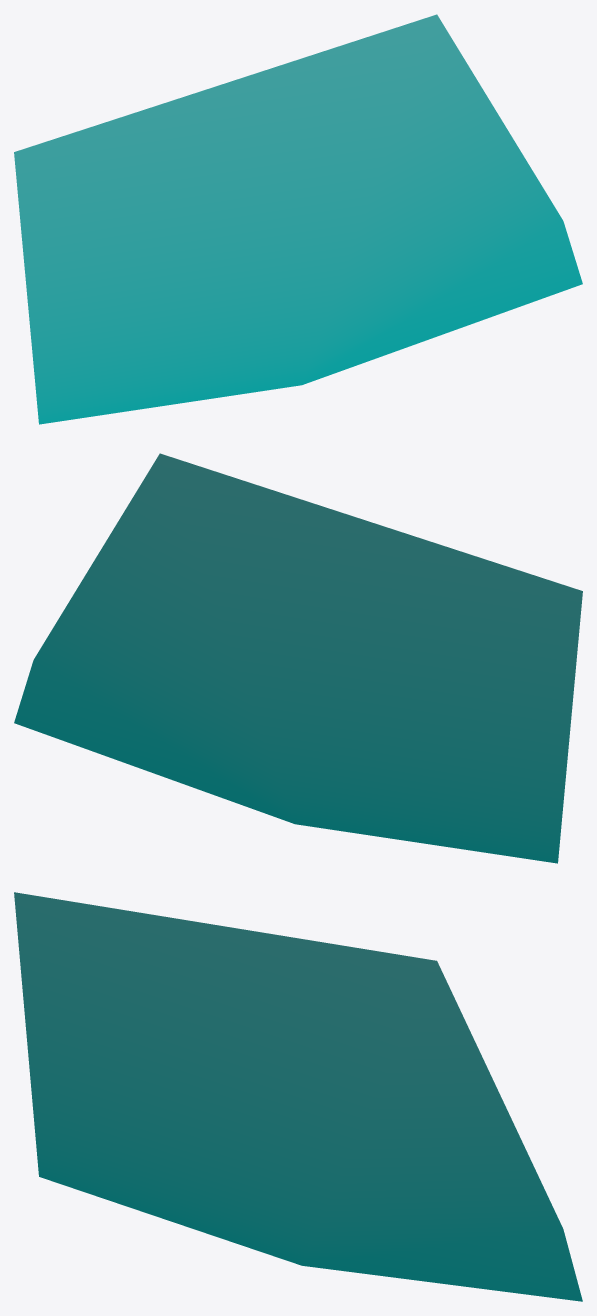
The model's file is Lady_Fern_wdvlditia_Mid_wdvlditia_VarH_LOD2.fbx.
The picture shows the model from 3 angles, top to bottom: view 1: azimuth 30°, elevation 25°; view 2: azimuth 150°, elevation 25°; view 3: azimuth 330°, elevation 25°; orthographic projection.
Parts seen in each view (by area): view 1: _bpn9_VarH_LOD6; view 2: _bpn9_VarH_LOD6; view 3: _bpn9_VarH_LOD6.
Boxes of the visible parts, x1=… form: _bpn9_VarH_LOD6: x1=14, y1=14, x2=582, y2=424; _bpn9_VarH_LOD6: x1=14, y1=453, x2=582, y2=863; _bpn9_VarH_LOD6: x1=14, y1=892, x2=582, y2=1301.
Bounding box in the file's own units: 129 × 73.2 × 0.
